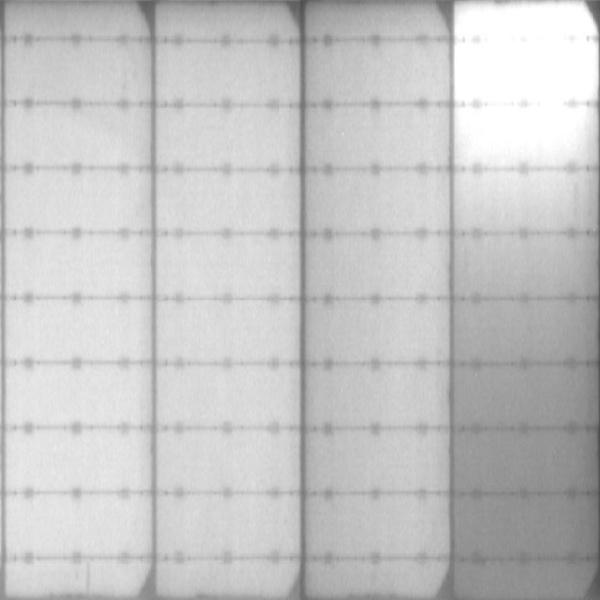hot_spot: (459, 44, 586, 99), (457, 5, 583, 34), (466, 110, 580, 141)
